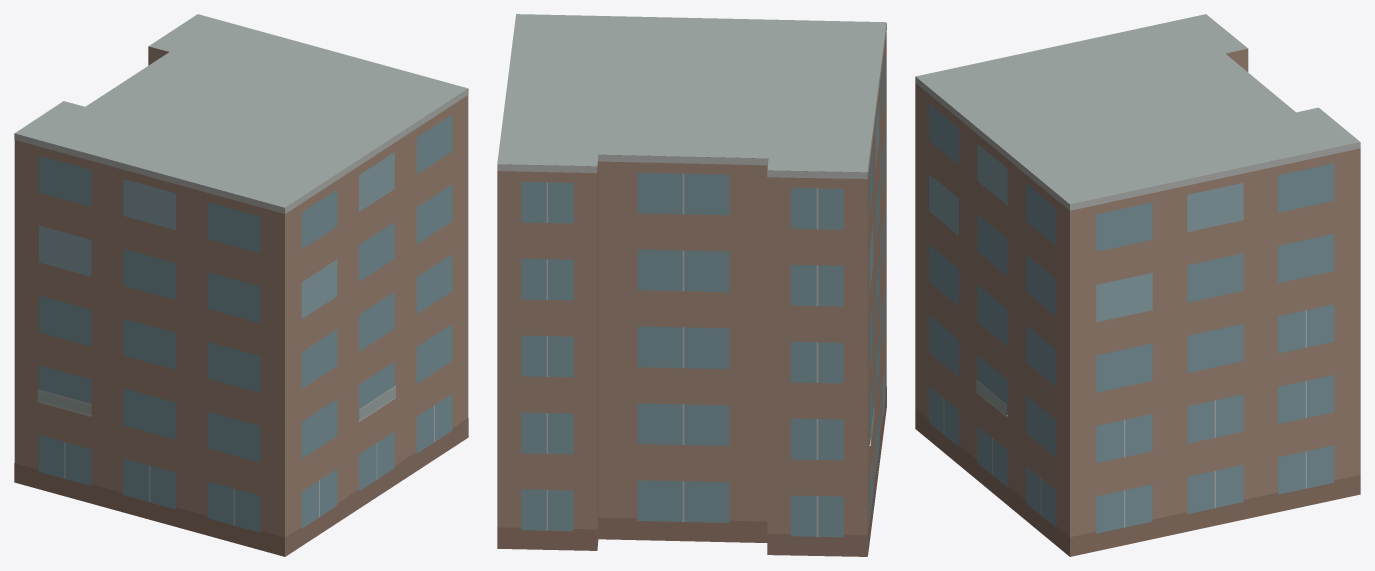
File: survey-upis-33029355.glb
3 renders of one model, left to right at view 1: azimuth 30°, elevation 25°; view 2: azimuth 150°, elevation 25°; view 3: azimuth 270°, elevation 25°, orthographic. The views are drawn at different scales.
Parts seen in each view (by area): view 1: survey-upis-33029355.tmp; view 2: survey-upis-33029355.tmp; view 3: survey-upis-33029355.tmp.
Part boxes in pixels (box(x1,y1,x2,y2)): survey-upis-33029355.tmp: box(14, 14, 468, 556); survey-upis-33029355.tmp: box(497, 14, 886, 556); survey-upis-33029355.tmp: box(915, 14, 1360, 556).
Bounding box in the file's own units: 15.71 × 13.55 × 15.52.
